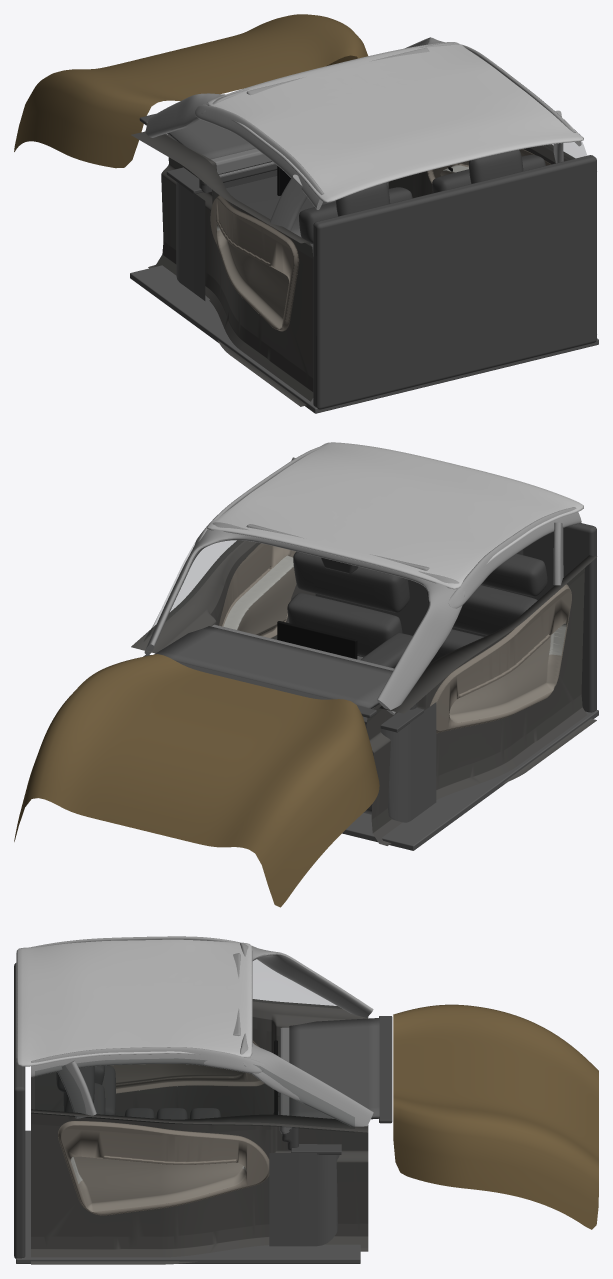
File: cabin.2b9a64c5.glb
3 views of the same model, one above another, from view 1: azimuth 30°, elevation 25°; view 2: azimuth 150°, elevation 25°; view 3: azimuth 270°, elevation 25° (orthographic). The views are drawn at different scales.
Parts seen in each view (by area): view 1: Cabin; view 2: Cabin, Glass; view 3: Cabin, Glass.
Part boxes in pixels (x1,y1,x2,y2): Cabin: (14,14,598,413); Cabin: (14,442,598,907); Glass: (144,537,243,640); Cabin: (14,936,598,1264); Glass: (35,959,354,1132).
Bounding box in the file's own units: 1.72 × 1.2 × 3.07.
